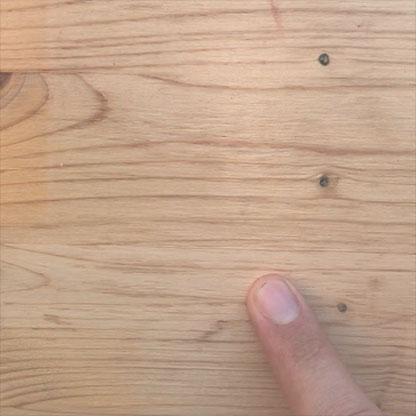fingertip: (234, 266, 319, 332)
